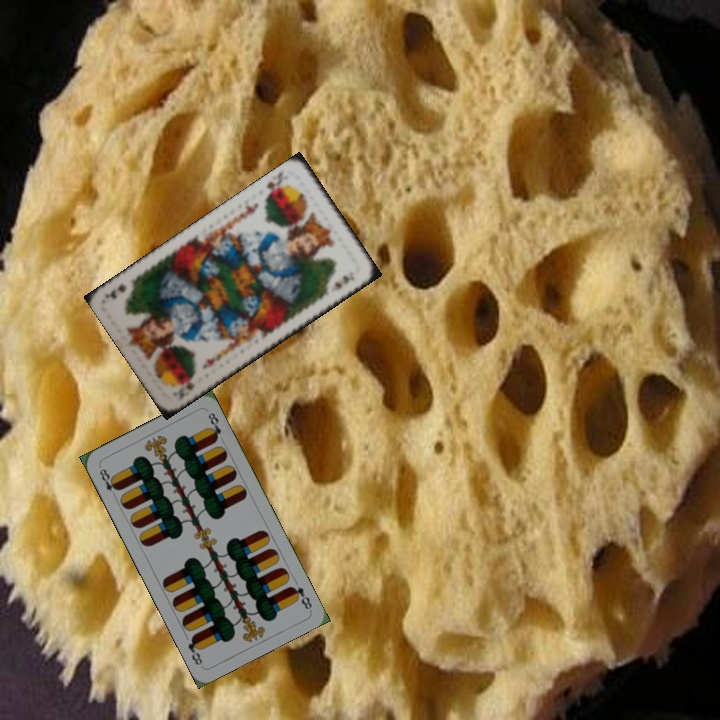E8: (95, 464, 122, 501), (286, 582, 315, 612)
SK: (262, 168, 286, 201), (177, 372, 198, 399)
